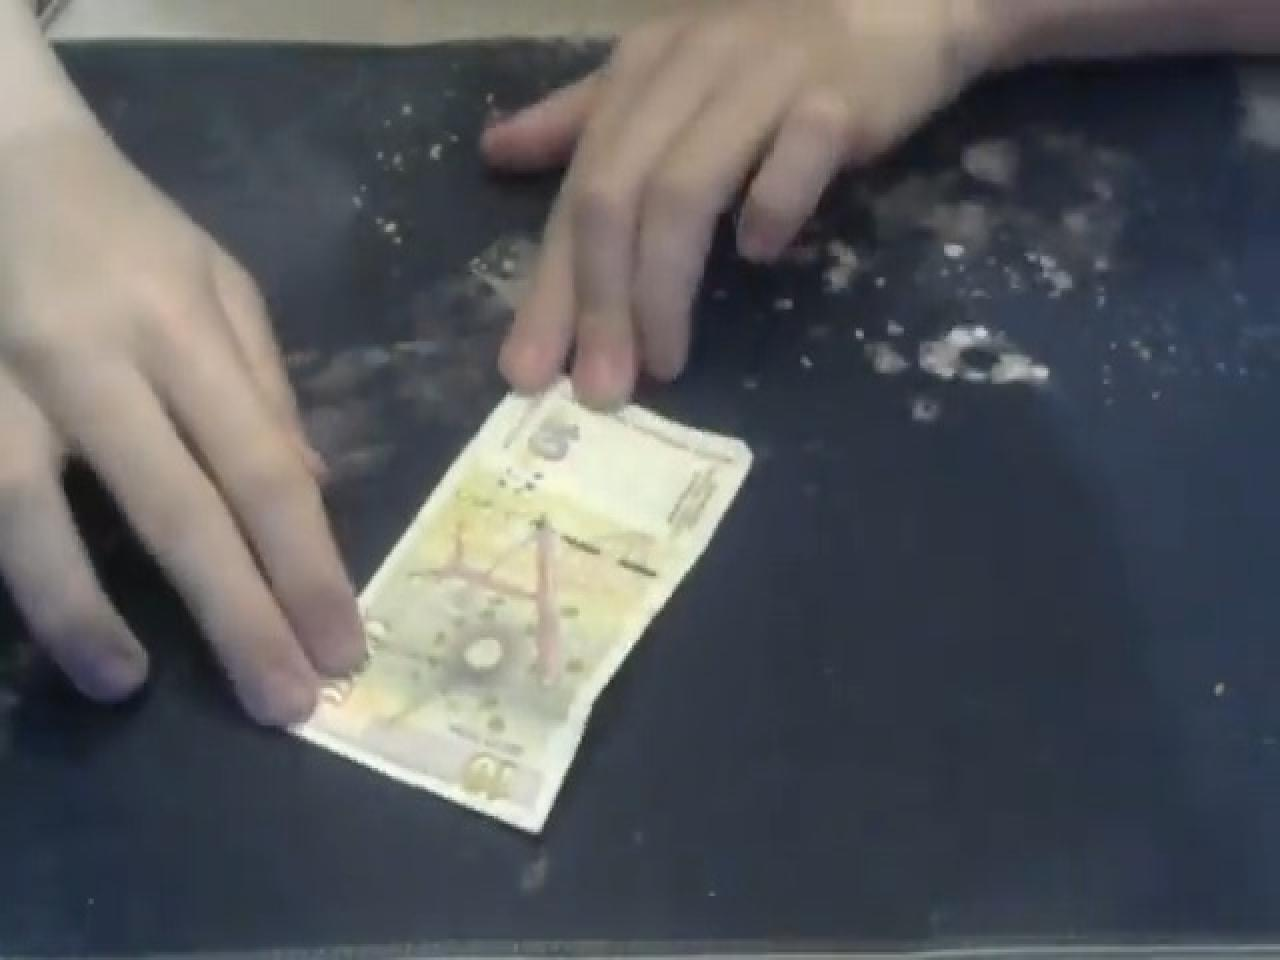10leva: (439, 719, 533, 821), (510, 396, 588, 484)
